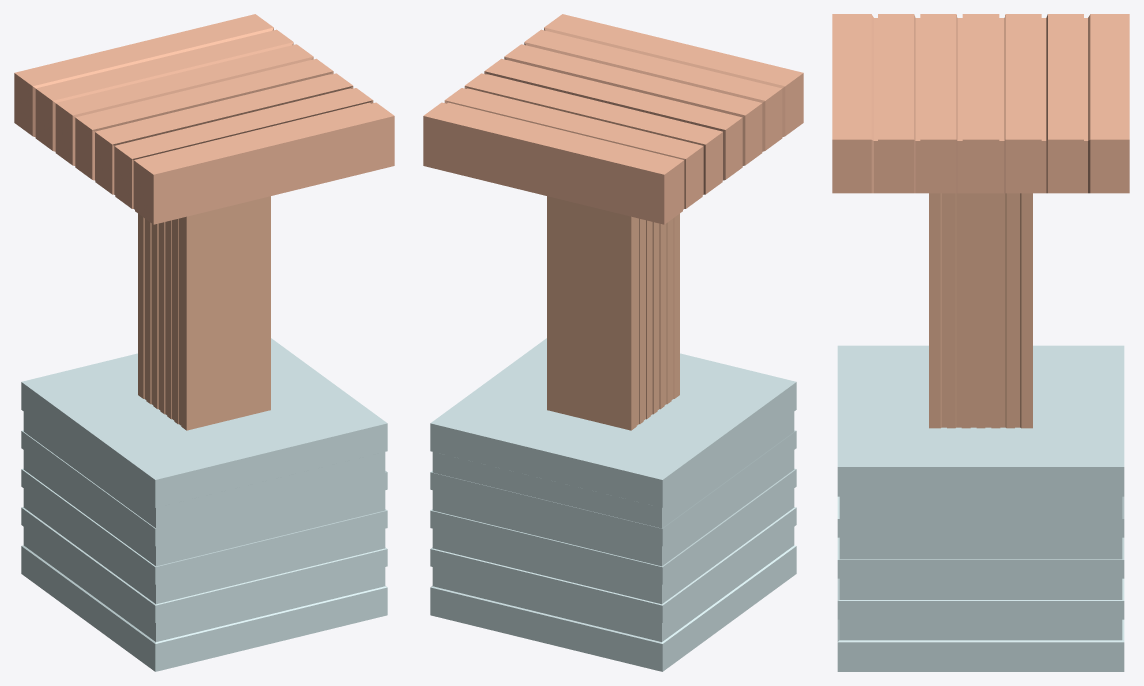
The model's file is piston.glb.
3 renders of one model, left to right at view 1: azimuth 30°, elevation 25°; view 2: azimuth 150°, elevation 25°; view 3: azimuth 270°, elevation 25°, orthographic. The views are drawn at different scales.
Parts seen in each view (by area): view 1: Base, Head; view 2: Base, Head; view 3: Base, Head.
Part boxes in pixels (x1,y1,x2,y2): Base: (21, 338, 387, 671); Head: (14, 14, 394, 430); Base: (430, 338, 796, 671); Head: (423, 14, 803, 430); Base: (837, 345, 1124, 671); Head: (832, 14, 1129, 428).
Size of the model in its own units: 1 by 1.98 by 1.
